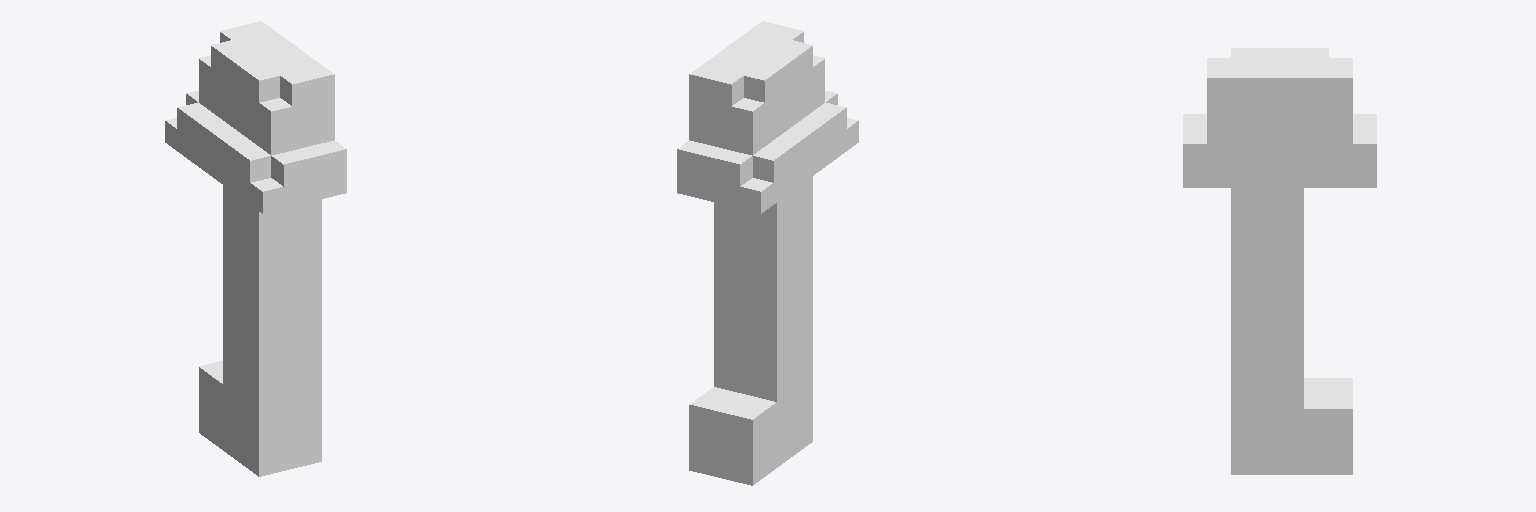
File: RightHand.obj
3 renders of one model, left to right at view 1: azimuth 30°, elevation 25°; view 2: azimuth 150°, elevation 25°; view 3: azimuth 270°, elevation 25°, orthographic.
Parts seen in each view (by area): view 1: object 1; view 2: object 1; view 3: object 1.
Part boxes in pixels (bbox=[...]): object 1: bbox=[165, 21, 346, 476]; object 1: bbox=[677, 21, 858, 485]; object 1: bbox=[1183, 48, 1376, 474].
Bounding box in the file's own units: 0.4 × 1.8 × 0.8.